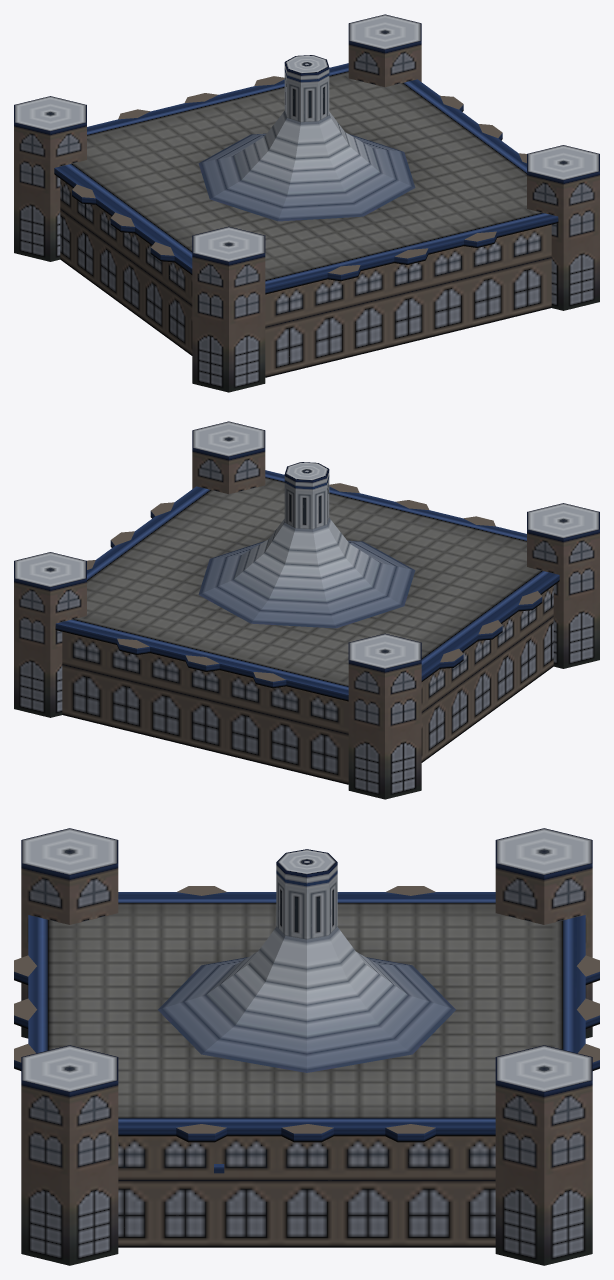
Rendered from SodaJerkBuilding.fbx.
The picture shows the model from 3 angles, top to bottom: view 1: azimuth 30°, elevation 25°; view 2: azimuth 150°, elevation 25°; view 3: azimuth 270°, elevation 25°; orthographic projection. The views are drawn at different scales.
Parts seen in each view (by area): view 1: SodaJerkBuilding_NightLights; view 2: SodaJerkBuilding_NightLights; view 3: SodaJerkBuilding_NightLights.
Part boxes in pixels (<box>): SodaJerkBuilding_NightLights: <box>14,14,599,392</box>; SodaJerkBuilding_NightLights: <box>14,421,599,799</box>; SodaJerkBuilding_NightLights: <box>14,828,599,1265</box>.
Bounding box in the file's own units: 16.89 × 8.09 × 15.82.
